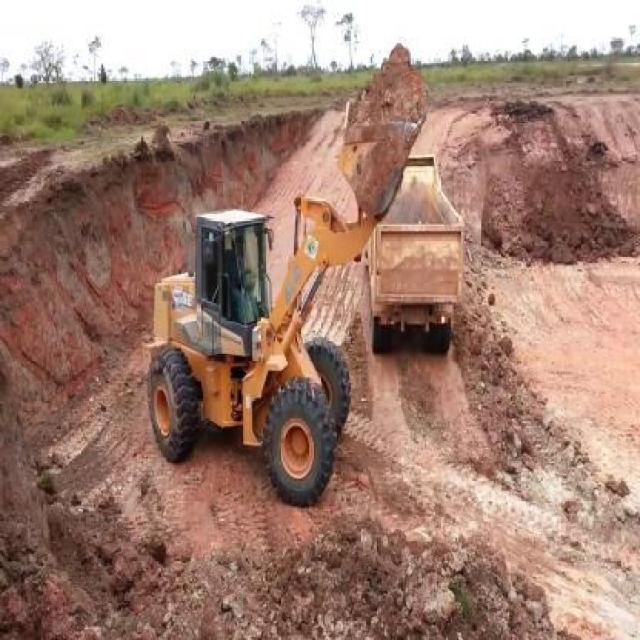buldozerpayloadergrader: (145, 42, 426, 502)
dump_truck: (365, 149, 461, 356)
